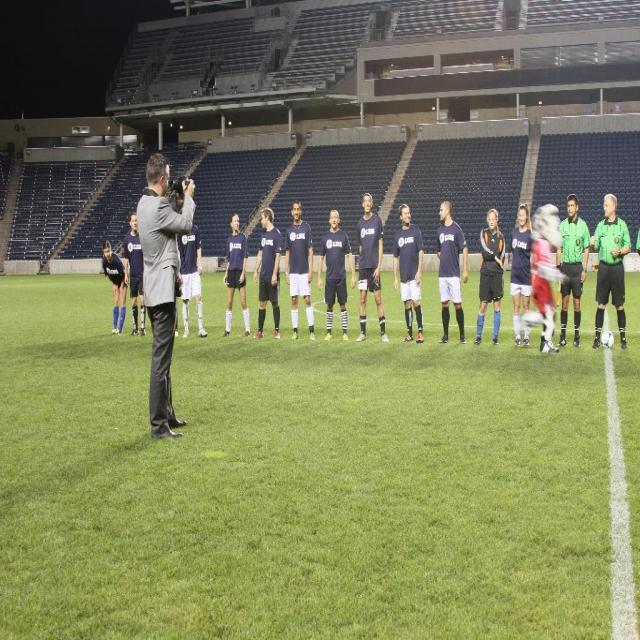ball: (602, 330, 615, 348)
